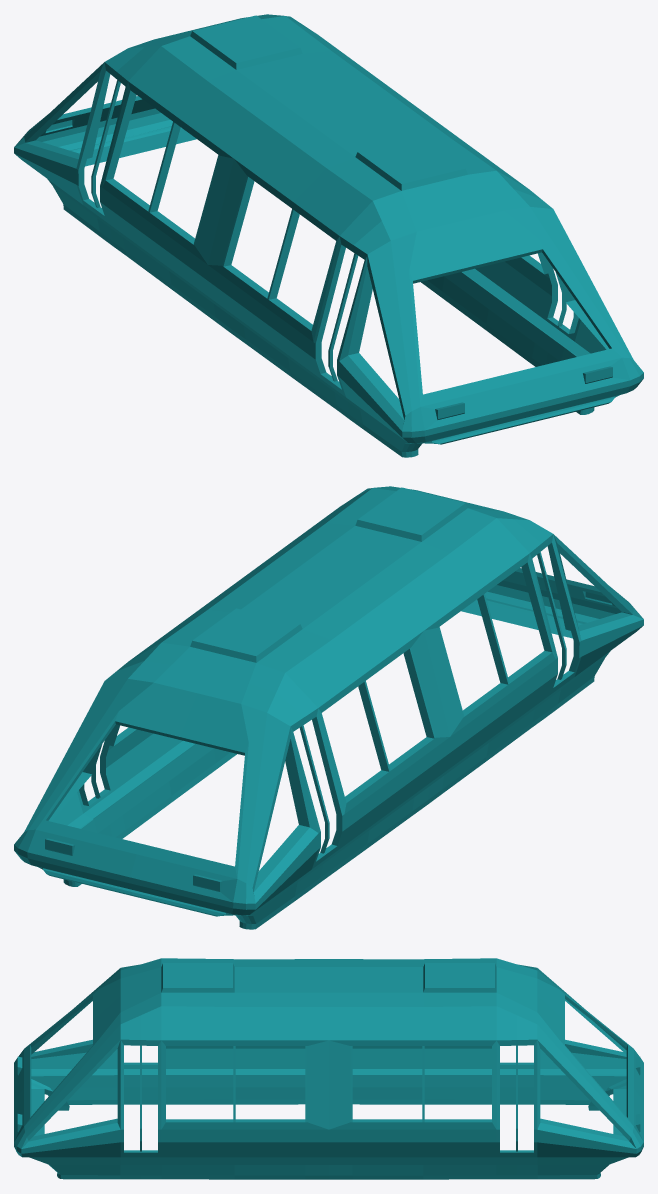
The model's file is train.glb.
3 views of the same model, one above another, from view 1: azimuth 30°, elevation 25°; view 2: azimuth 150°, elevation 25°; view 3: azimuth 270°, elevation 25° (orthographic). The views are drawn at different scales.
Visible parts, largest first — view 1: TRAIN; view 2: TRAIN; view 3: TRAIN.
Boxes of the visible parts, bbox=[...] form: TRAIN: bbox=[14, 14, 643, 457]; TRAIN: bbox=[14, 486, 643, 929]; TRAIN: bbox=[14, 958, 643, 1179].
Size of the model in its own units: 0.8437 by 0.6992 by 2.4.
